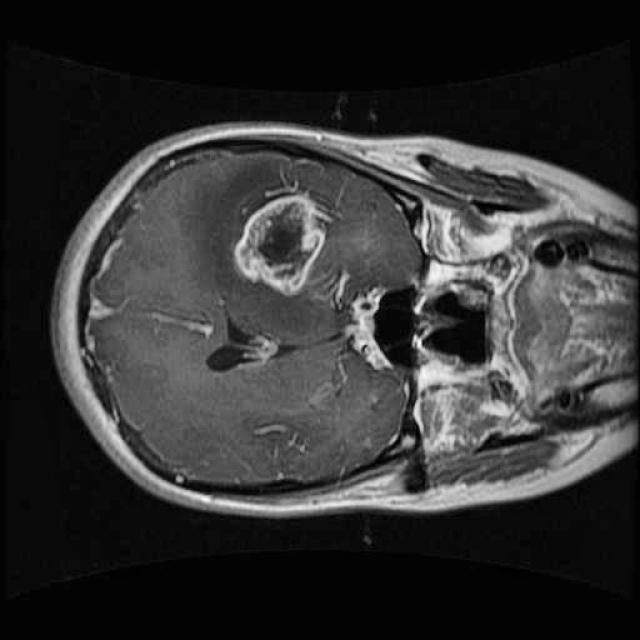Non-Tumor: (222, 171, 342, 308)
